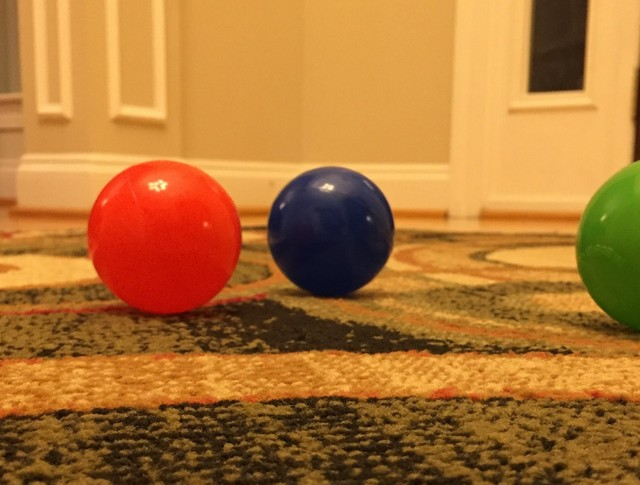Ball: (266, 165, 394, 293)
